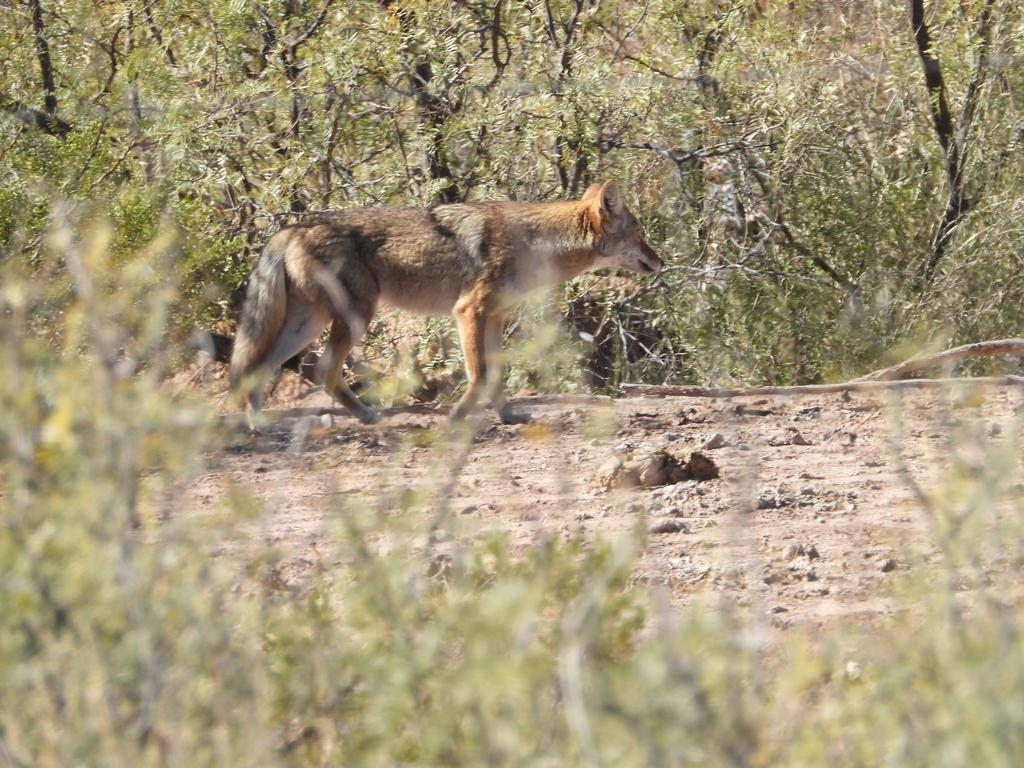Coyote: (225, 174, 667, 436)
